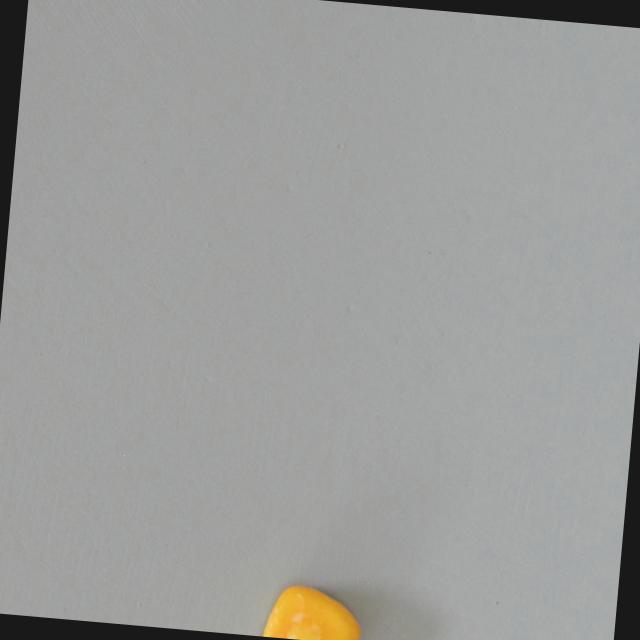dañado: (251, 580, 369, 640)
